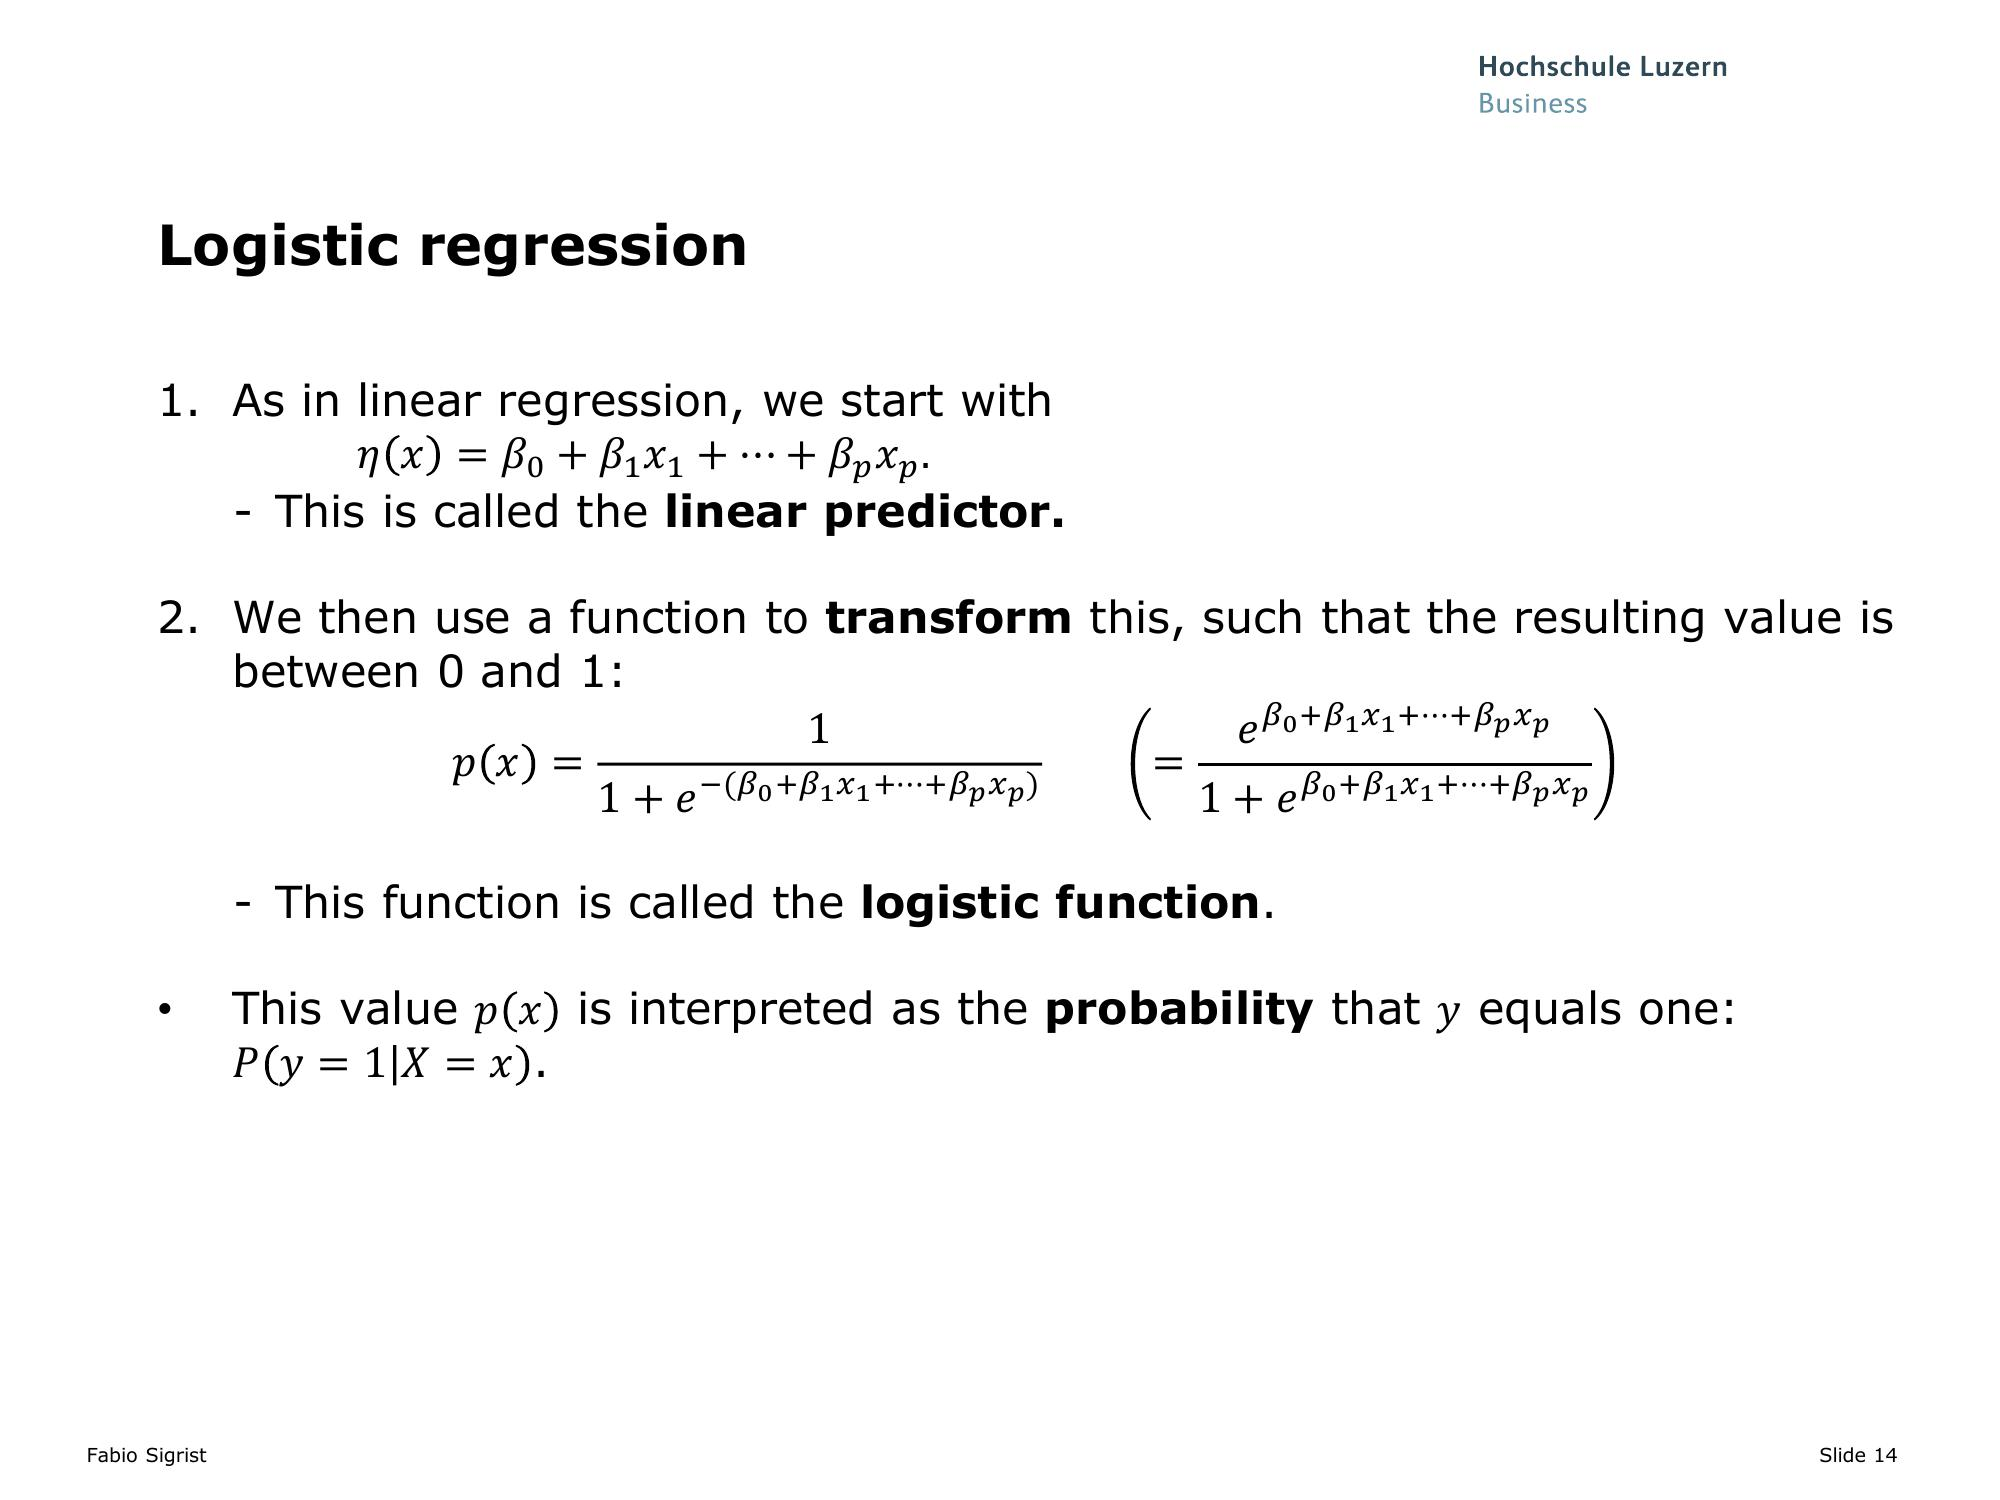Title: (162, 210, 754, 284)
